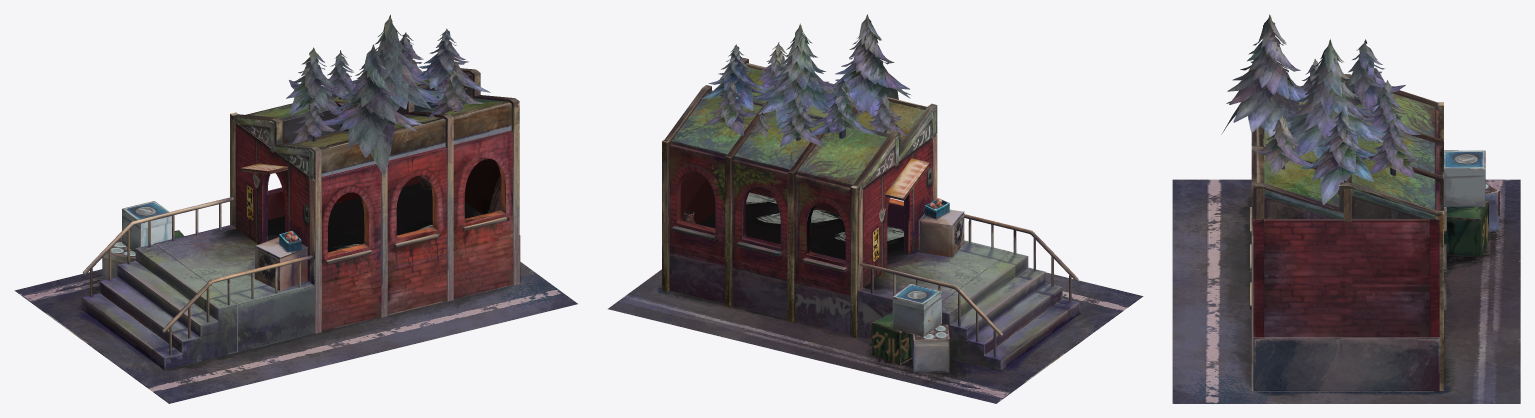
The model's file is house.glb.
3 views of the same model, side by side, from view 1: azimuth 30°, elevation 25°; view 2: azimuth 150°, elevation 25°; view 3: azimuth 270°, elevation 25° (orthographic). The views are drawn at different scales.
Visible parts, largest first — view 1: House, TreeUPD; view 2: House, TreeUPD; view 3: House, TreeUPD.
Boxes of the visible parts, left/top/right/bottom form: House: left=14, top=68, right=577, bottom=403; TreeUPD: left=286, top=14, right=490, bottom=175; House: left=608, top=58, right=1143, bottom=403; TreeUPD: left=701, top=14, right=911, bottom=146; House: left=1172, top=74, right=1520, bottom=403; TreeUPD: left=1221, top=14, right=1421, bottom=204.
Size of the model in its own units: 1.2 by 0.7531 by 0.7839.
Materials: 2 (2 with a texture image).
